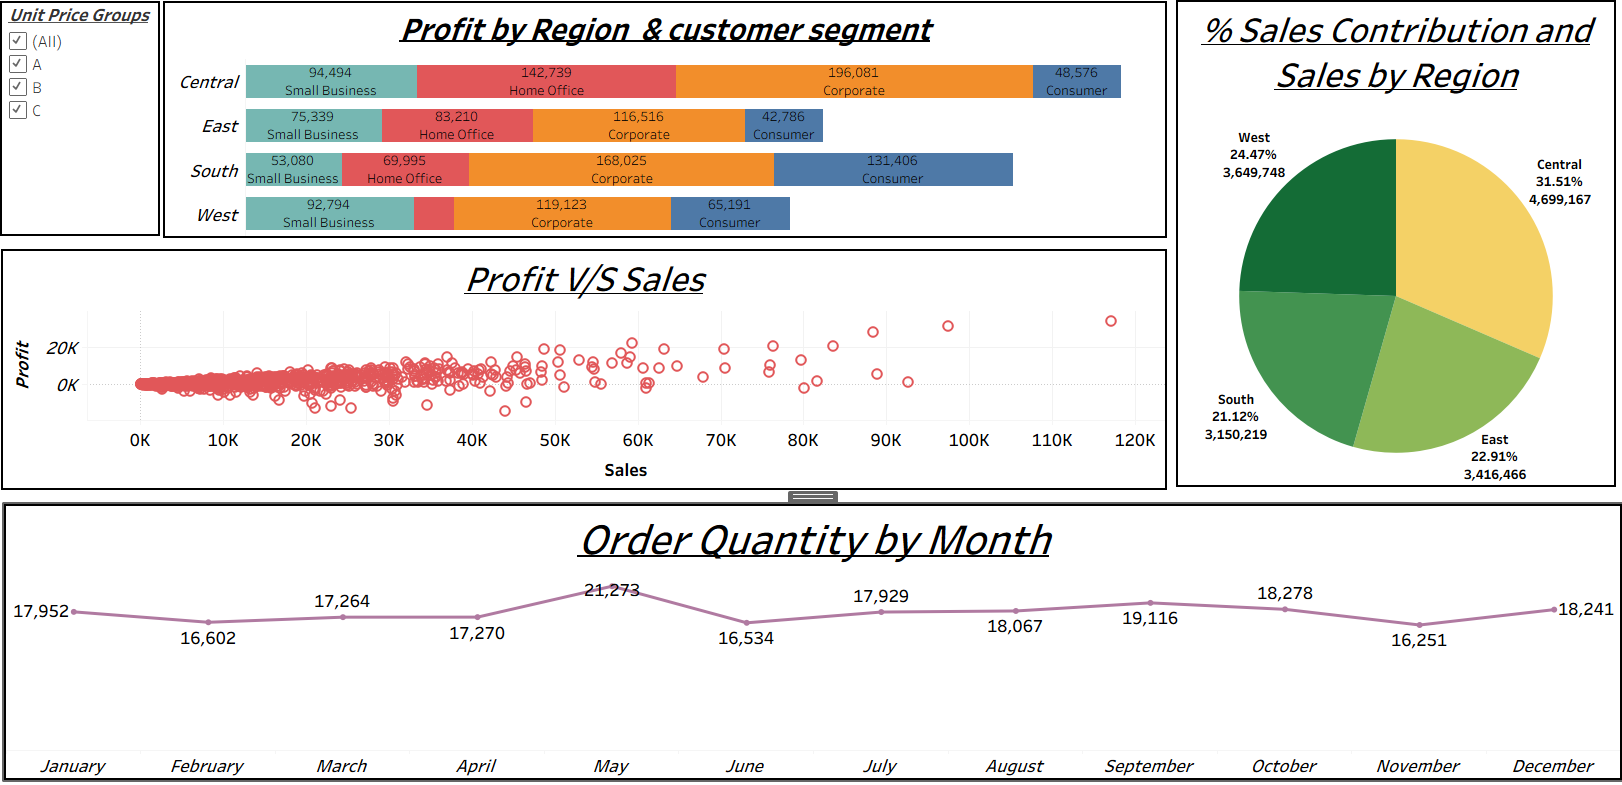

The page's visual inventory and layout, read from the dashboard file:
{"tool":"tableau","page":{"name":"Dashboard 1","canvas":[1000,1000],"units":"permille","ordinal":0},"visuals":[{"type":"worksheet","title":"Pie Chart","mark":"Pie","box":[715.8,15,265.5,608]},{"type":"filter","title":"Line Chart","param":"[federated.08npxc91f02ayb13zqemk1cg2w0o].[none:Calculation_931963681584054272:nk","box":[6,16.2,96.6,293.4]},{"type":"worksheet","title":"Bar Chart","mark":"Automatic","rows":["Region"],"cols":["Profit"],"box":[104.4,16.2,605.9,295.9]},{"type":"worksheet","title":"Scatter Plot","mark":"Automatic","rows":["Profit"],"cols":["Sales"],"box":[6.6,325.8,703.7,300.9]},{"type":"worksheet","title":"Line Chart","mark":"Automatic","rows":["Order Quantity"],"cols":["Order Date"],"box":[8.4,644.2,977.1,344.6]}]}

Visuals, with their boxes on the dashboard's canvas, which has no fixed pixel size, in thousandths of its width and height (x1, y1, x2, y2). These are canvas units, not pixel positions in the 1622x785 screenshot, which may show the page scaled, cropped or inside an application window:
"Pie Chart" worksheet (Pie marks): (716, 15, 981, 623)
"Line Chart" filter: (6, 16, 103, 310)
"Bar Chart" worksheet: (104, 16, 710, 312)
"Scatter Plot" worksheet: (7, 326, 710, 627)
"Line Chart" worksheet: (8, 644, 986, 989)
